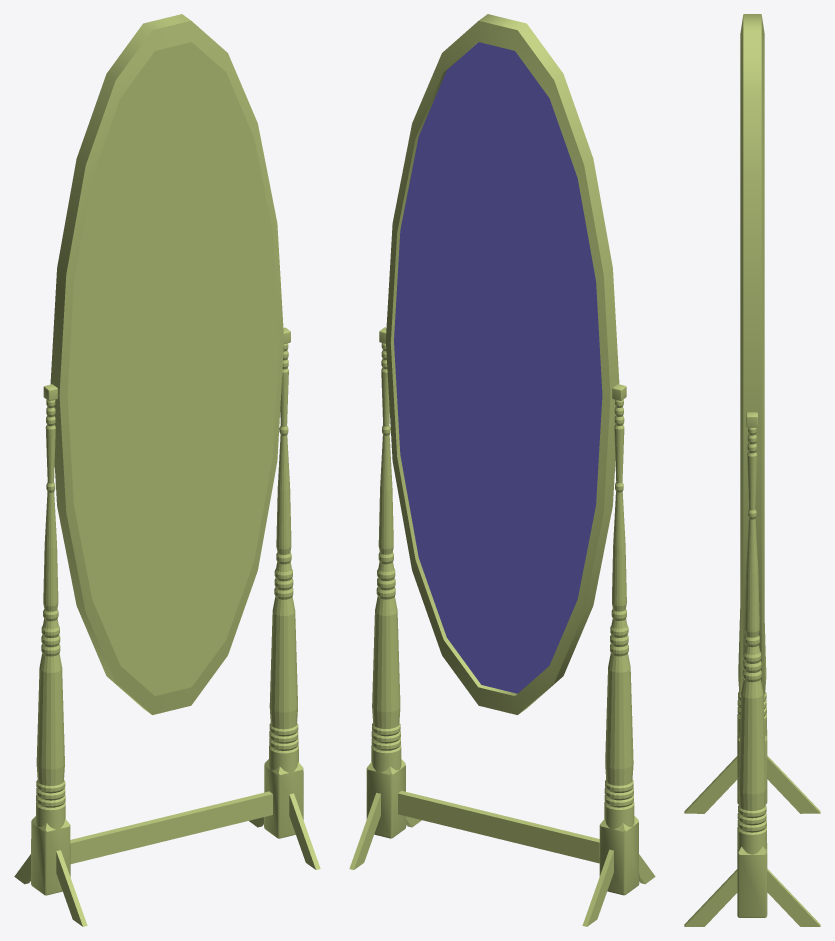
Rendered from Mirror_Fixed.FBX.
3 renders of one model, left to right at view 1: azimuth 30°, elevation 25°; view 2: azimuth 150°, elevation 25°; view 3: azimuth 270°, elevation 25°, orthographic.
Parts seen in each view (by area): view 1: Box001; view 2: Object001, Box001; view 3: Box001.
Boxes of the visible parts, x1,y1,x2,y2 form: Box001: (14,14,320,926); Object001: (394,42,602,693); Box001: (349,14,655,926); Box001: (684,14,820,926).
Size of the model in its own units: 66.95 by 210 by 30.72.
